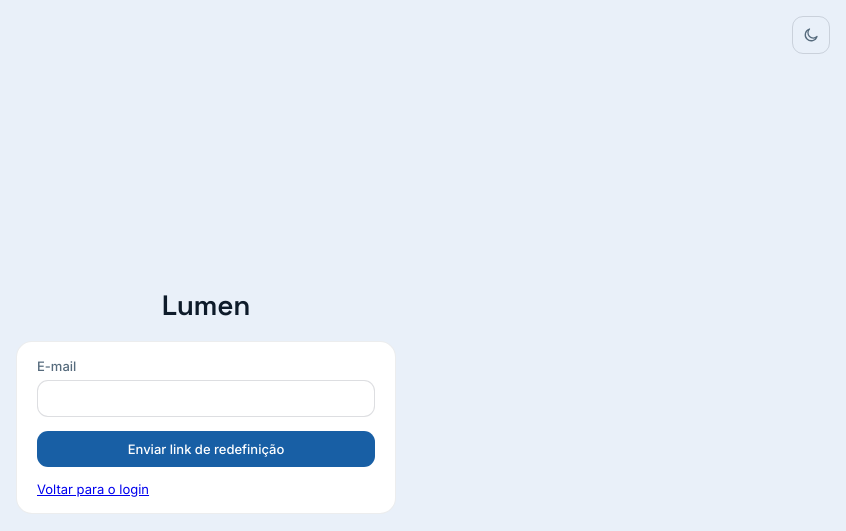
Test: ForgotPasswordPage › always shows the uniform non-enumerating message
The width and height of the screenshot is (846, 531).
Type "owner@example.com" into the field labelled "E-mail". click: {"x": 206, "y": 398}
box: [37, 380, 375, 416]
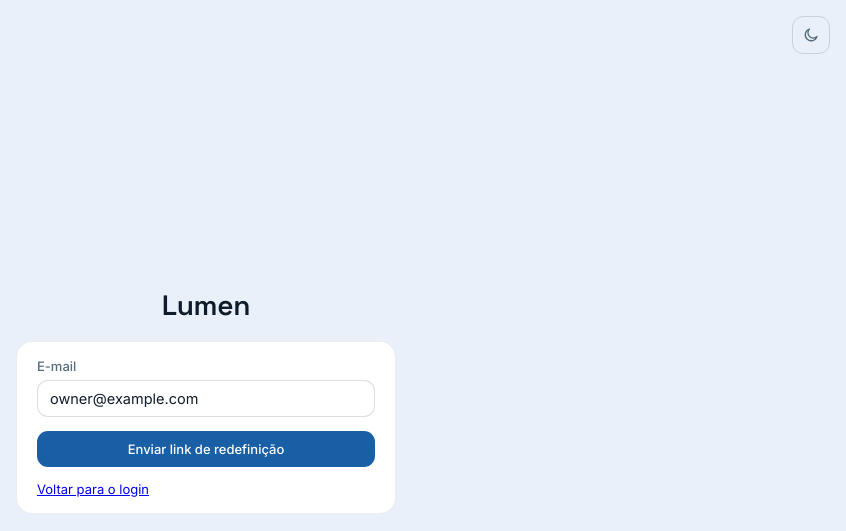
Click the button "Enviar link de redefinição". click: {"x": 206, "y": 448}
box: [37, 430, 375, 466]
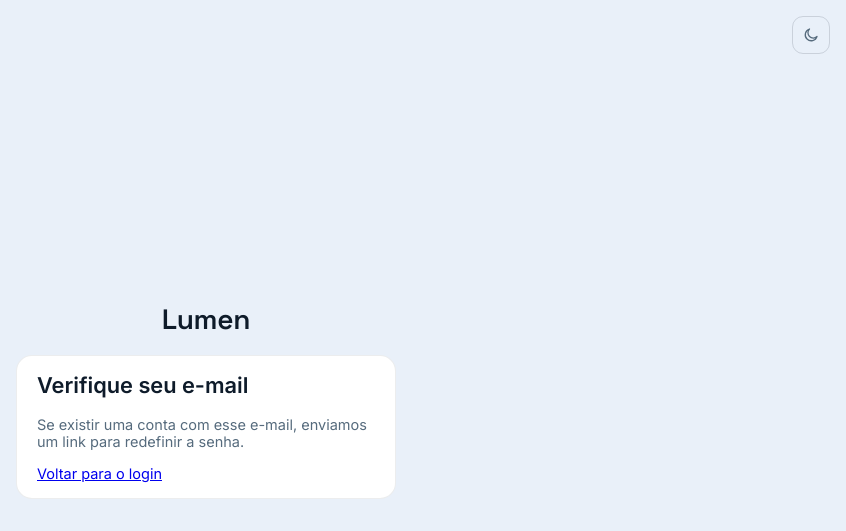
Expected: the heading "Verifique seu e-mail" is shown, [37, 372, 248, 398]
